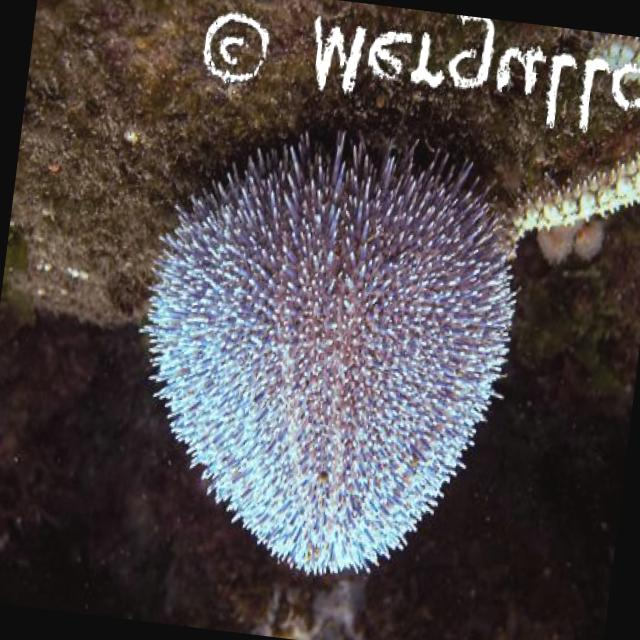Deniz Kestanesi: (112, 108, 538, 596)
